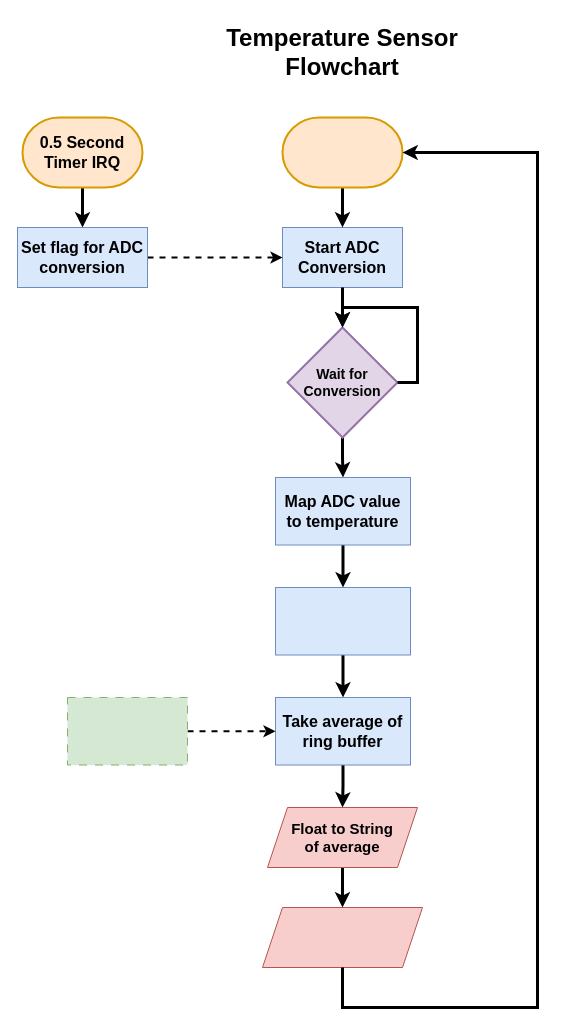
Image size: 564x1034. Some labels were removed from this diagram. The centre of each missing label's shape, as x and y in pixels:
"Add temperature to ring buffer" goes at [342,620].
"Average window size" goes at [127,730].
"Main" goes at [342,152].
"Transmit average over UART" goes at [342,937].
